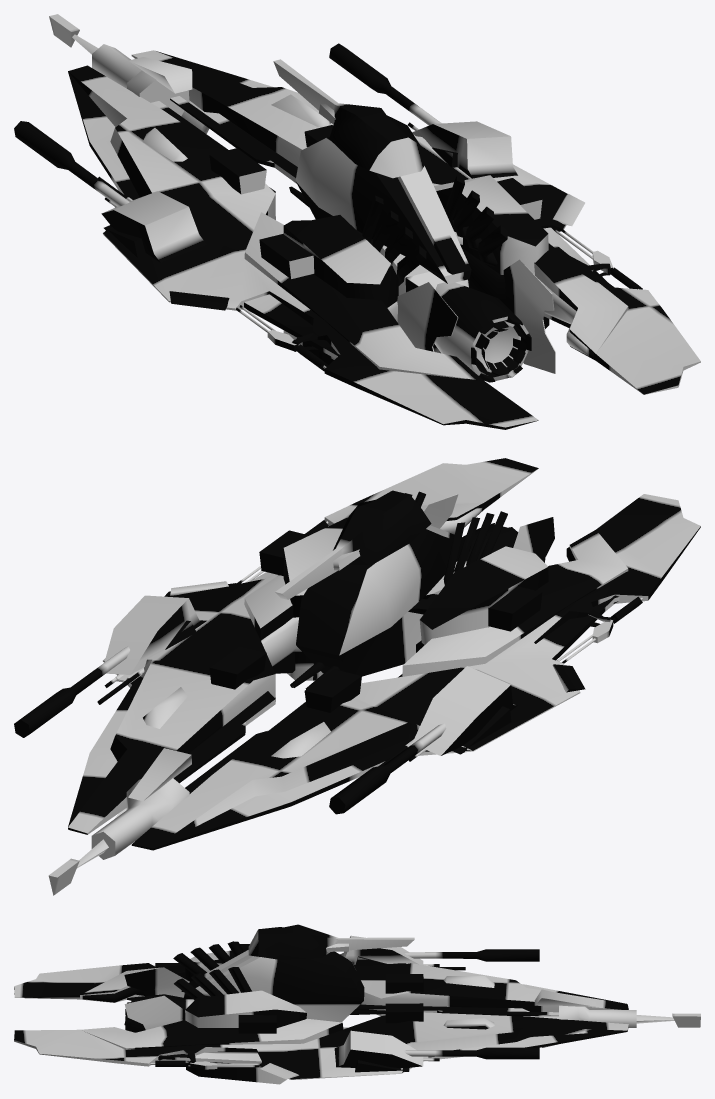
File: leonov.obj
3 views of the same model, one above another, from view 1: azimuth 30°, elevation 25°; view 2: azimuth 150°, elevation 25°; view 3: azimuth 270°, elevation 25° (orthographic). The views are drawn at different scales.
Parts seen in each view (by area): view 1: main; view 2: main; view 3: main.
Boxes of the visible parts, x1,y1,x2,y2 form: main: (14,14,700,429); main: (14,458,700,895); main: (14,924,700,1084).
Bounding box in the file's own units: 51.21 × 24.03 × 115.
1 material, 1 textured.
